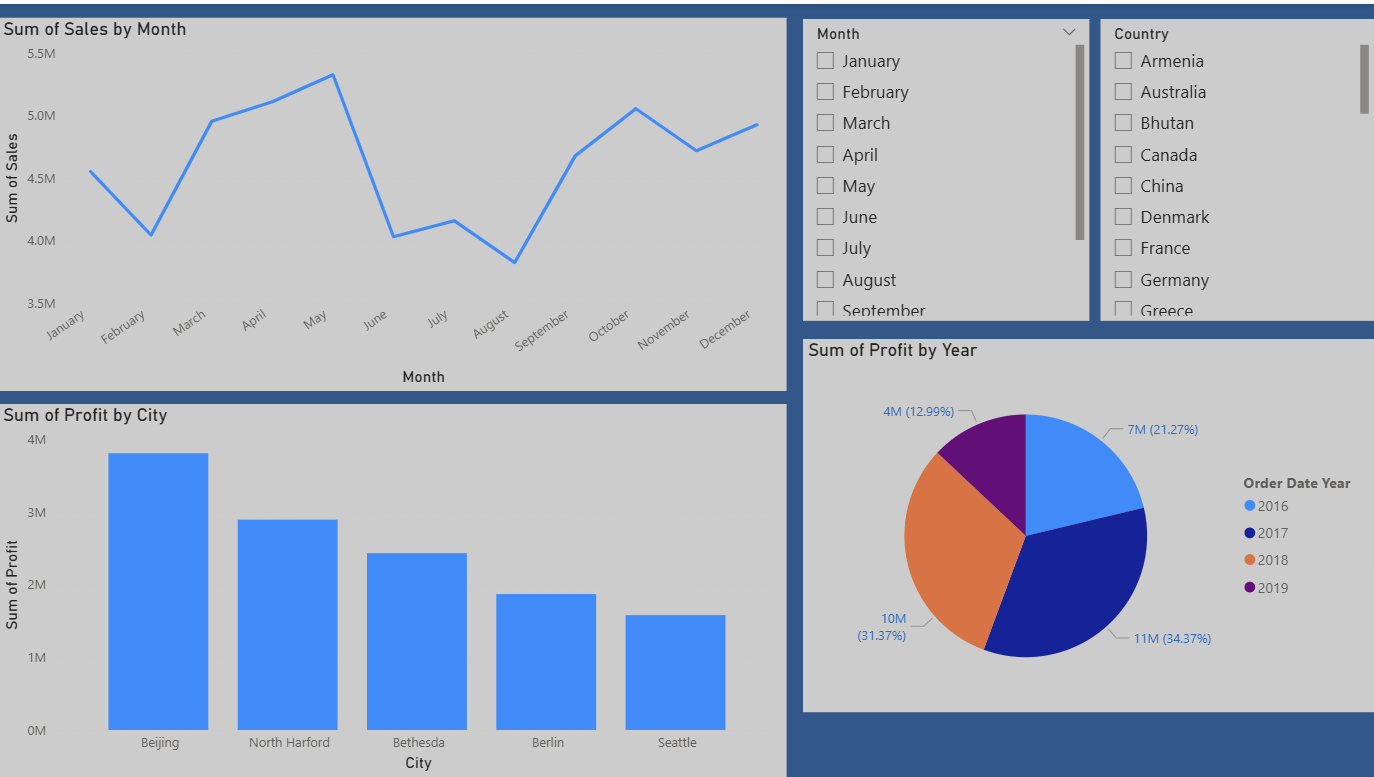

This screenshot's page, from the dashboard's own definition file:
{"tool":"powerbi","page":{"name":"Page 2","canvas":[1280,720],"ordinal":1},"visuals":[{"type":"clusteredColumnChart","fields":{"Category":["Data1.City"],"Y":["Sum(Data1.Profit)"]},"box":[0,372.2,733.3,347.2],"z":0},{"type":"slicer","fields":{"Values":["Data1.Order Date.Variation.Date Hierarchy.Month"]},"box":[749.2,14.5,266.6,281.1],"z":1000},{"type":"slicer","fields":{"Values":["Data1.Country"]},"box":[1025.5,14.5,254.6,281.1],"z":2000},{"type":"lineChart","fields":{"Category":["Data1.Order Date.Variation.Date Hierarchy.Month"],"Y":["Sum(Data1.Sales)"]},"box":[0,12.5,733.8,347.5],"z":3000},{"type":"pieChart","fields":{"Category":["Data1.Order Date.Variation.Date Hierarchy.Year"],"Y":["Sum(Data1.Profit)"]},"box":[749.2,311.3,530.8,347.5],"z":4000}]}

Visuals, with their boxes in screenshot pixels (x1, y1, x2, y2), scaled from the page's 1280x720 canvas onto the 1374x777 screenshot:
clusteredColumnChart - Data1.City x Sum(Data1.Profit): [0, 402, 787, 776]
slicer - Data1.Order Date.Variation.Date Hierarchy.Month: [804, 16, 1090, 319]
slicer - Data1.Country: [1101, 16, 1373, 319]
lineChart - Data1.Order Date.Variation.Date Hierarchy.Month x Sum(Data1.Sales): [0, 13, 788, 388]
pieChart - Data1.Order Date.Variation.Date Hierarchy.Year x Sum(Data1.Profit): [804, 336, 1373, 711]
